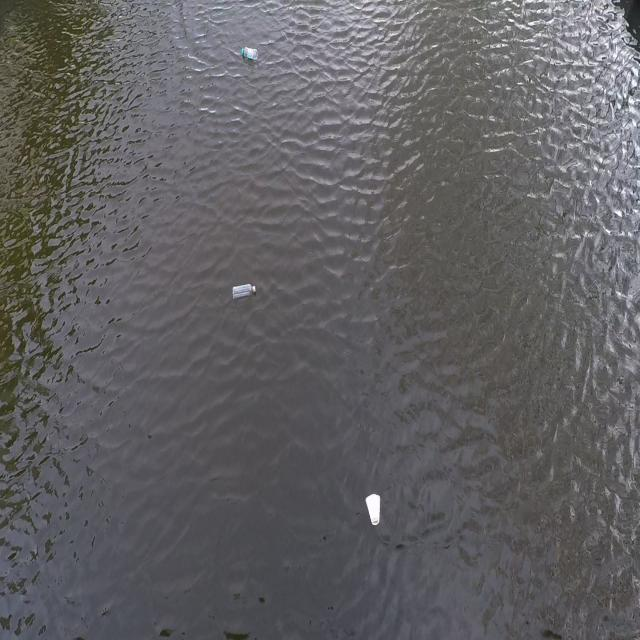Bouteille plastique: (228, 281, 261, 305), (238, 44, 260, 66)
Non plastique: (363, 487, 383, 533)
